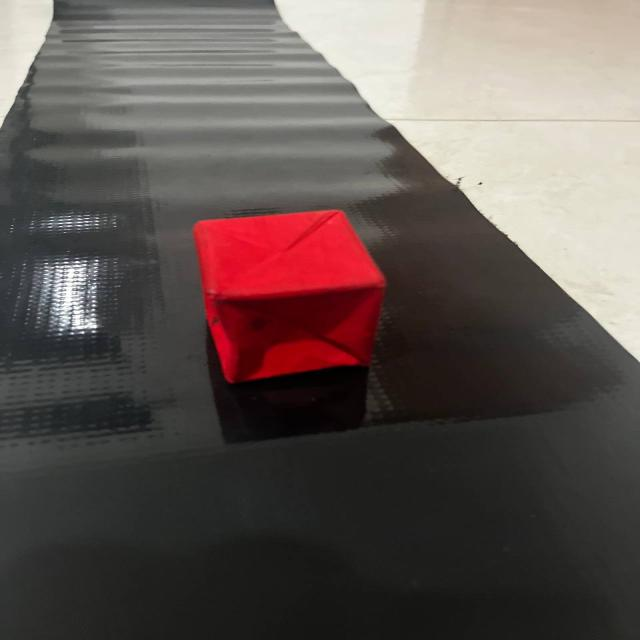Rojo: (178, 202, 413, 395)
